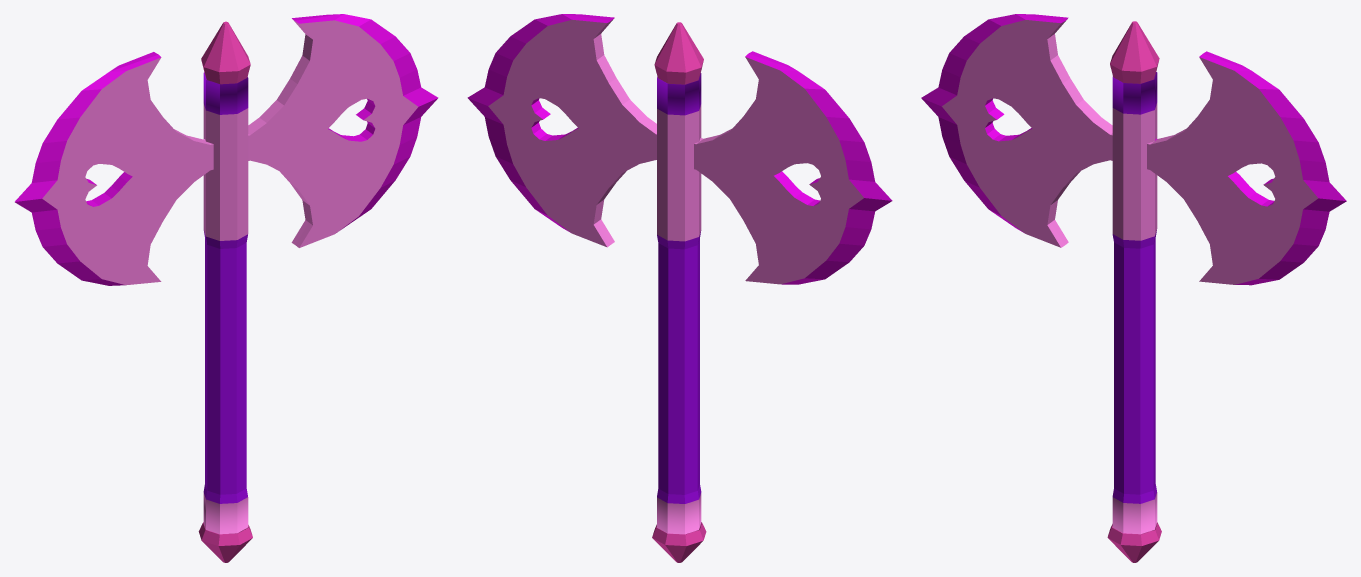
File: Hacha Blendervs1.fbx
The picture shows the model from 3 angles, left to right: view 1: azimuth 30°, elevation 25°; view 2: azimuth 150°, elevation 25°; view 3: azimuth 330°, elevation 25°; orthographic projection.
Visible parts, largest first — view 1: Hacha.003; view 2: Hacha.003; view 3: Hacha.003.
Boxes of the visible parts, <box> form: Hacha.003: <box>15,14,438,562</box>; Hacha.003: <box>467,14,892,562</box>; Hacha.003: <box>921,14,1346,562</box>.
Size of the model in its own units: 1610 by 1951 by 185.
